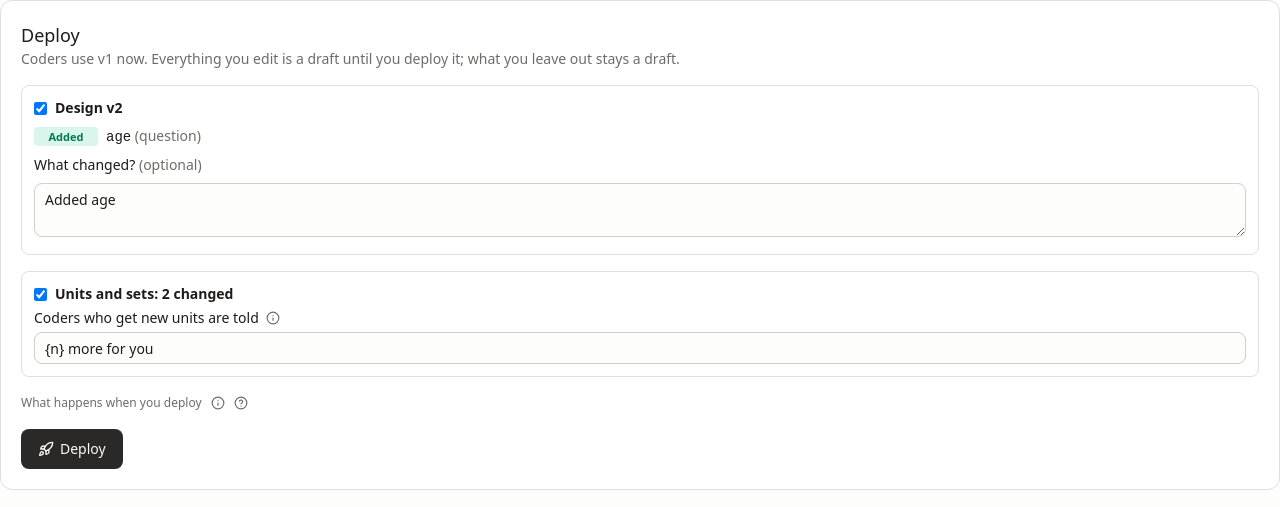
Test: the deploy panel › units only: with the design left out, the live version stays and the draft stays a draft
This screenshot has width=1280, height=507.
Later steps or results of the test are not shown.
Click the checkbox labelled "Design v2" at (40, 108), box top-left (34, 102), bottom-right (47, 114)
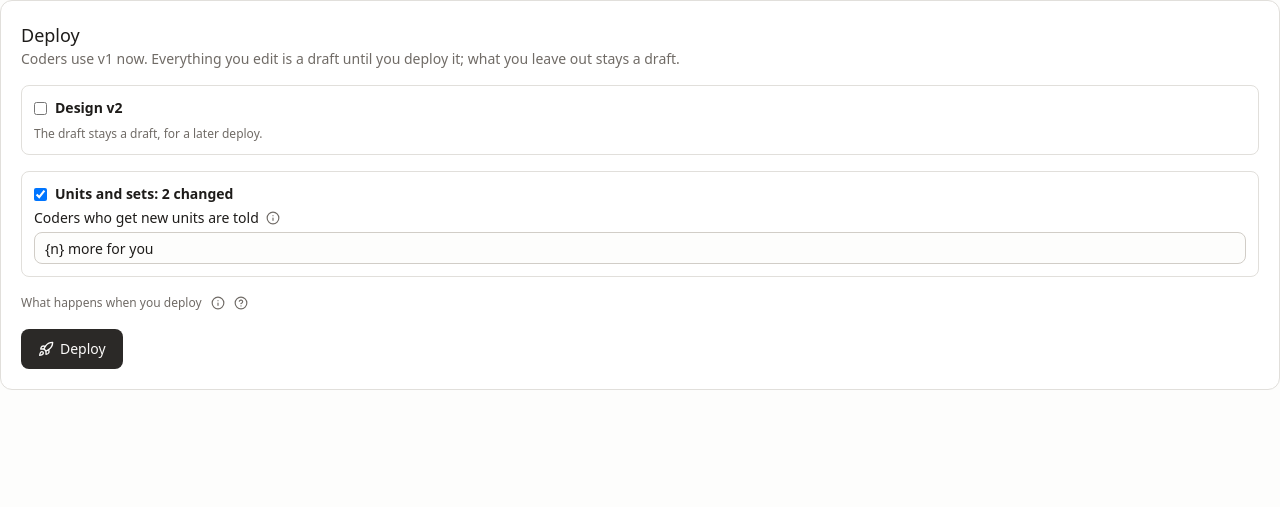
Expected: the text "The draft stays a draft, for a later deploy." is shown, top-left (34, 125), bottom-right (262, 142)
